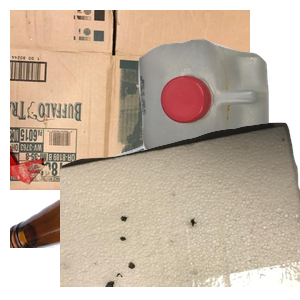cardboard: (10, 10, 250, 190)
glass: (10, 120, 247, 300)
plastic: (136, 37, 300, 188)
trash: (60, 120, 300, 300)
